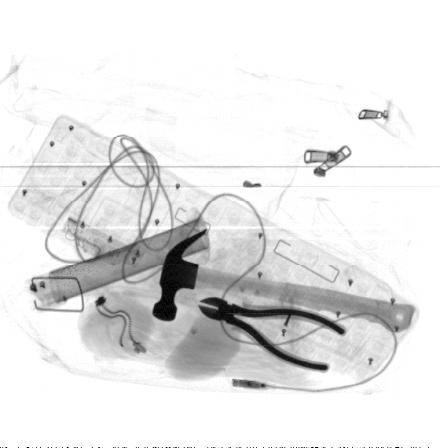Hammer: (152, 227, 416, 336)
Pliers: (197, 295, 348, 373)
